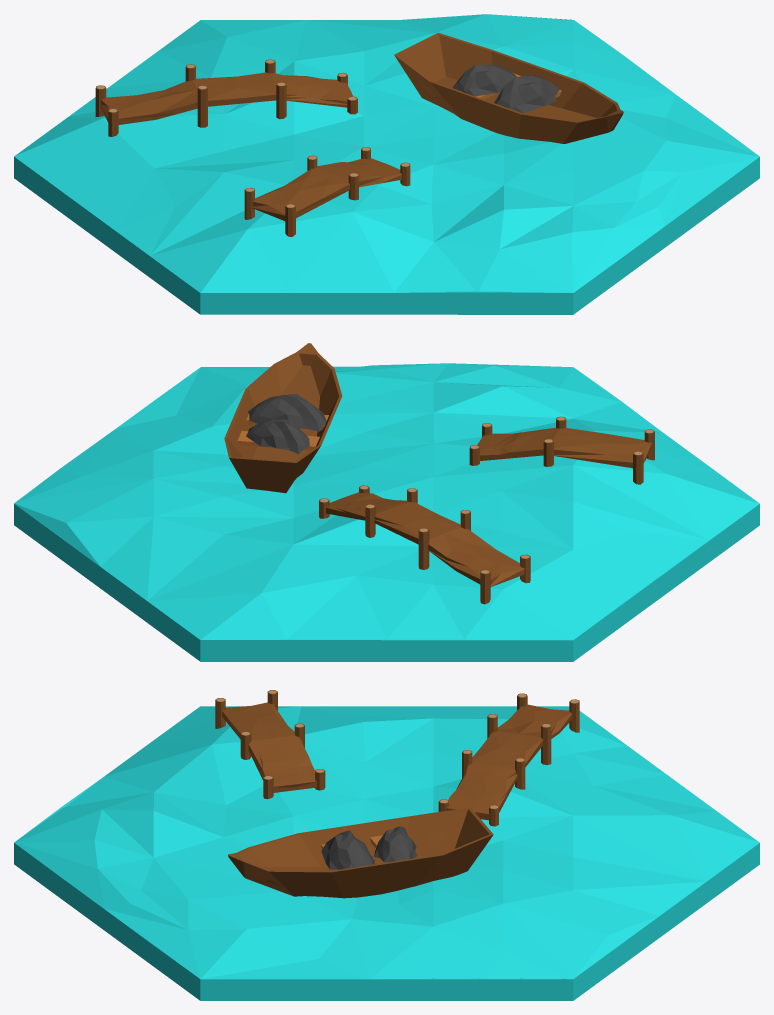
The model's file is orePort.fbx.
3 views of the same model, one above another, from view 1: azimuth 30°, elevation 25°; view 2: azimuth 150°, elevation 25°; view 3: azimuth 270°, elevation 25° (orthographic).
Parts seen in each view (by area): view 1: Cylinder.010; view 2: Cylinder.010; view 3: Cylinder.010.
Boxes of the visible parts, x1,y1,x2,y2 form: Cylinder.010: (14,14,759,314); Cylinder.010: (14,343,759,661); Cylinder.010: (14,690,759,1000).
Size of the model in its own units: 173 by 25.9 by 200.
